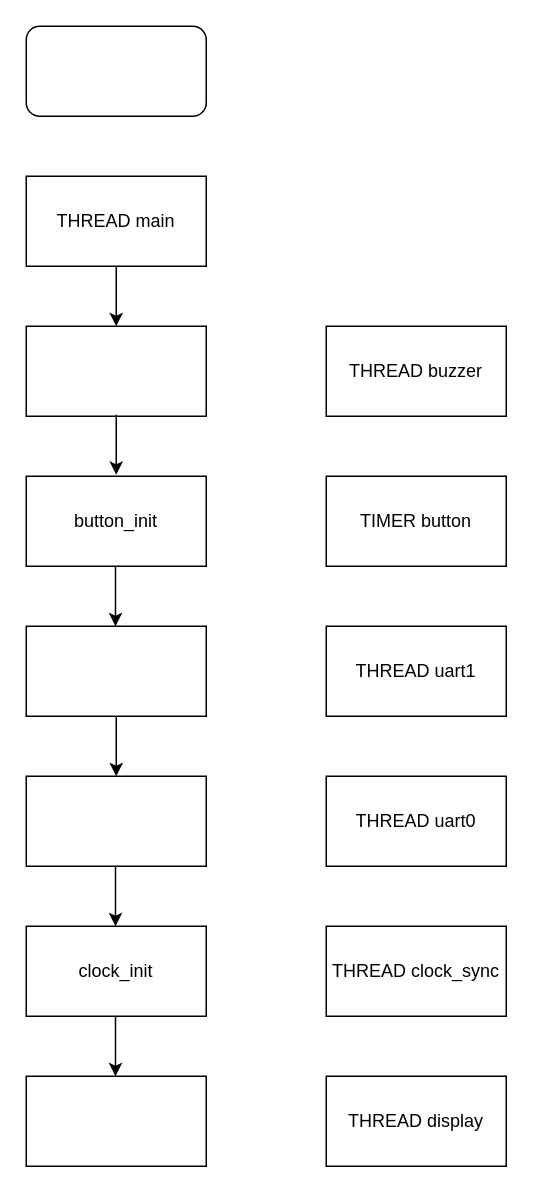
Some shapes in this 533 by 1193 pixel diagram are drawn without their labels. Each missing label, with the centre of its shape:
"buzzer_init" goes at (115,370).
"display_init" goes at (115,1120).
"RT-THREAD启动" goes at (115,70).
"uart0_init" goes at (115,820).
"uart1_init" goes at (115,670).
